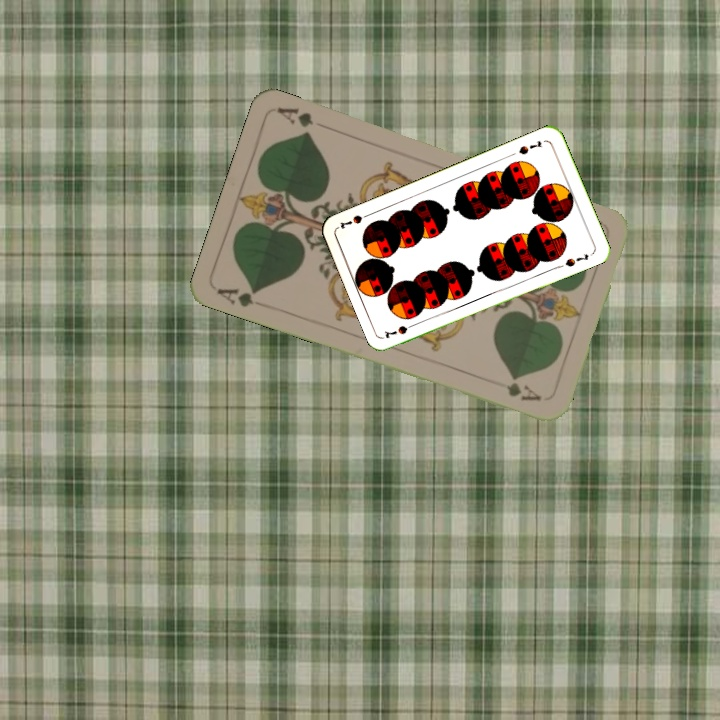GA: (213, 283, 263, 310)
S7: (381, 319, 420, 341), (515, 137, 545, 157)
